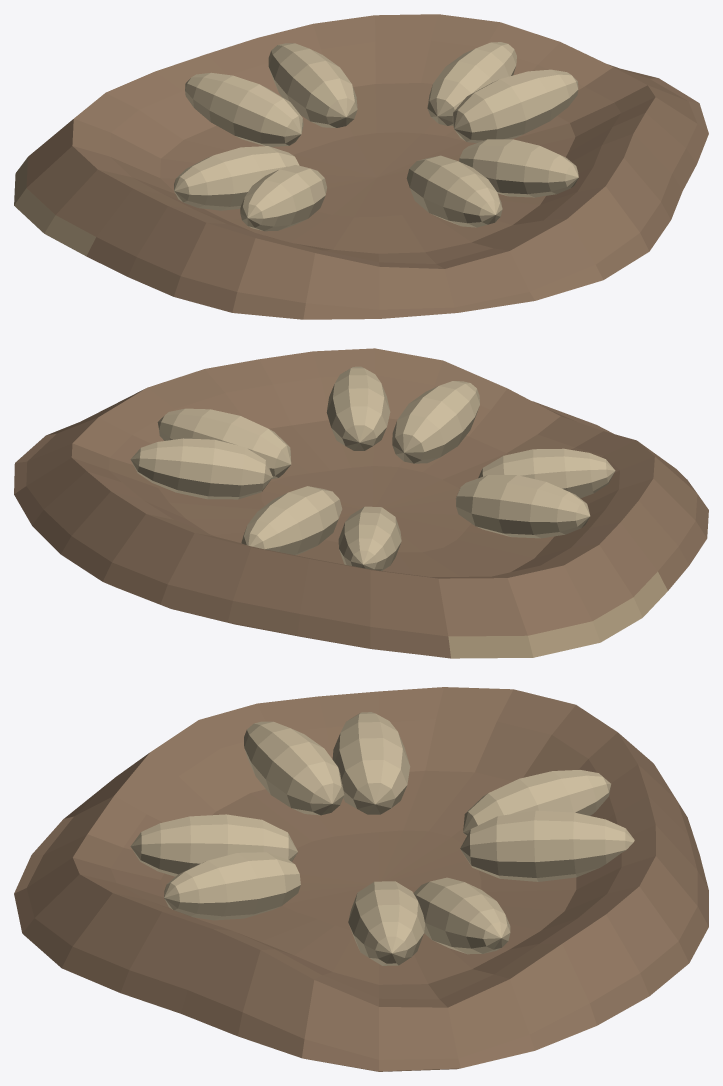
The model's file is dinosaur-nest.glb.
The picture shows the model from 3 angles, top to bottom: view 1: azimuth 30°, elevation 25°; view 2: azimuth 150°, elevation 25°; view 3: azimuth 270°, elevation 25°; orthographic projection. The views are drawn at different scales.
Visible parts, largest first — view 1: Earthen_nest_basin_with_two_low_rims, Egg_01_independently_editable, Egg_04_independently_editable, Egg_03_independently_editable, Egg_08_independently_editable, Egg_07_independently_editable, Egg_05_independently_editable, Egg_06_independently_editable, Egg_02_independently_editable; view 2: Earthen_nest_basin_with_two_low_rims, Egg_02_independently_editable, Egg_05_independently_editable, Egg_07_independently_editable, Egg_03_independently_editable, Egg_01_independently_editable, Egg_08_independently_editable, Egg_06_independently_editable, Egg_04_independently_editable; view 3: Earthen_nest_basin_with_two_low_rims, Egg_03_independently_editable, Egg_08_independently_editable, Egg_07_independently_editable, Egg_06_independently_editable, Egg_05_independently_editable, Egg_02_independently_editable, Egg_01_independently_editable, Egg_04_independently_editable.
Part boxes in pixels (box(x1,y1,x2,y2)): Earthen_nest_basin_with_two_low_rims: box(14, 14, 708, 319); Egg_01_independently_editable: box(452, 69, 578, 142); Egg_04_independently_editable: box(185, 72, 303, 146); Egg_03_independently_editable: box(268, 43, 357, 127); Egg_08_independently_editable: box(459, 139, 578, 197); Egg_07_independently_editable: box(406, 155, 502, 227); Egg_05_independently_editable: box(174, 146, 299, 210); Egg_06_independently_editable: box(240, 165, 326, 231); Egg_02_independently_editable: box(427, 42, 516, 125); Earthen_nest_basin_with_two_low_rims: box(14, 348, 708, 658); Egg_02_independently_editable: box(130, 438, 272, 499); Egg_05_independently_editable: box(455, 475, 590, 538); Egg_07_independently_editable: box(392, 381, 479, 463); Egg_03_independently_editable: box(241, 486, 342, 555); Egg_01_independently_editable: box(157, 408, 291, 478); Egg_08_independently_editable: box(326, 366, 390, 450); Egg_06_independently_editable: box(478, 448, 615, 498); Egg_04_independently_editable: box(338, 506, 401, 570); Earthen_nest_basin_with_two_low_rims: box(14, 687, 708, 1071); Egg_03_independently_editable: box(460, 810, 634, 881); Egg_08_independently_editable: box(164, 852, 300, 920); Egg_07_independently_editable: box(130, 814, 297, 876); Egg_06_independently_editable: box(244, 721, 344, 815); Egg_05_independently_editable: box(332, 712, 410, 814); Egg_02_independently_editable: box(413, 877, 510, 954); Egg_01_independently_editable: box(348, 881, 425, 965); Egg_04_independently_editable: box(463, 770, 611, 836).
Size of the model in its own units: 1.76 by 0.2067 by 1.48.
